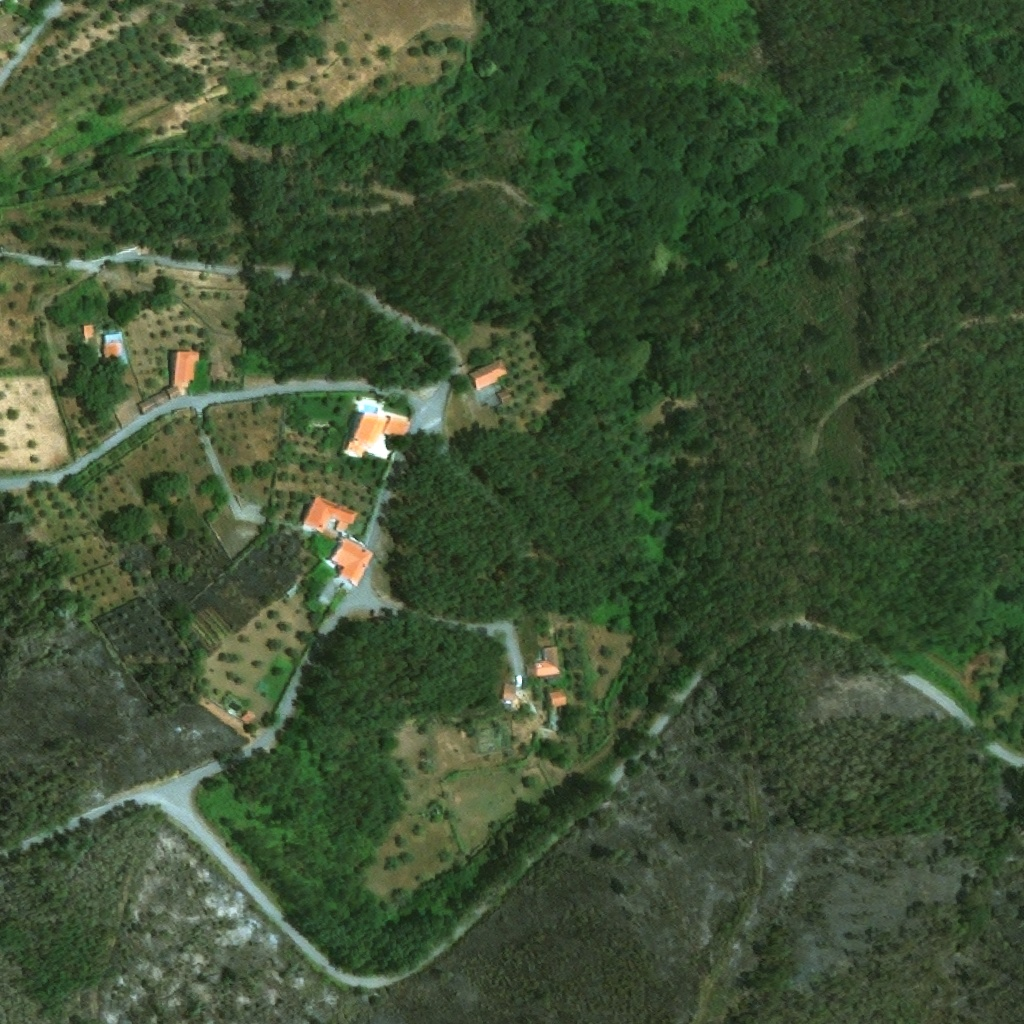0 no-damage: (341, 411, 408, 462), (330, 537, 374, 586), (301, 498, 357, 535), (135, 388, 181, 417), (467, 360, 508, 392), (170, 352, 200, 387), (532, 647, 561, 683), (101, 334, 123, 360), (547, 691, 566, 709), (499, 683, 512, 705), (495, 390, 511, 406), (240, 711, 255, 727), (205, 364, 218, 381), (81, 325, 92, 337)
